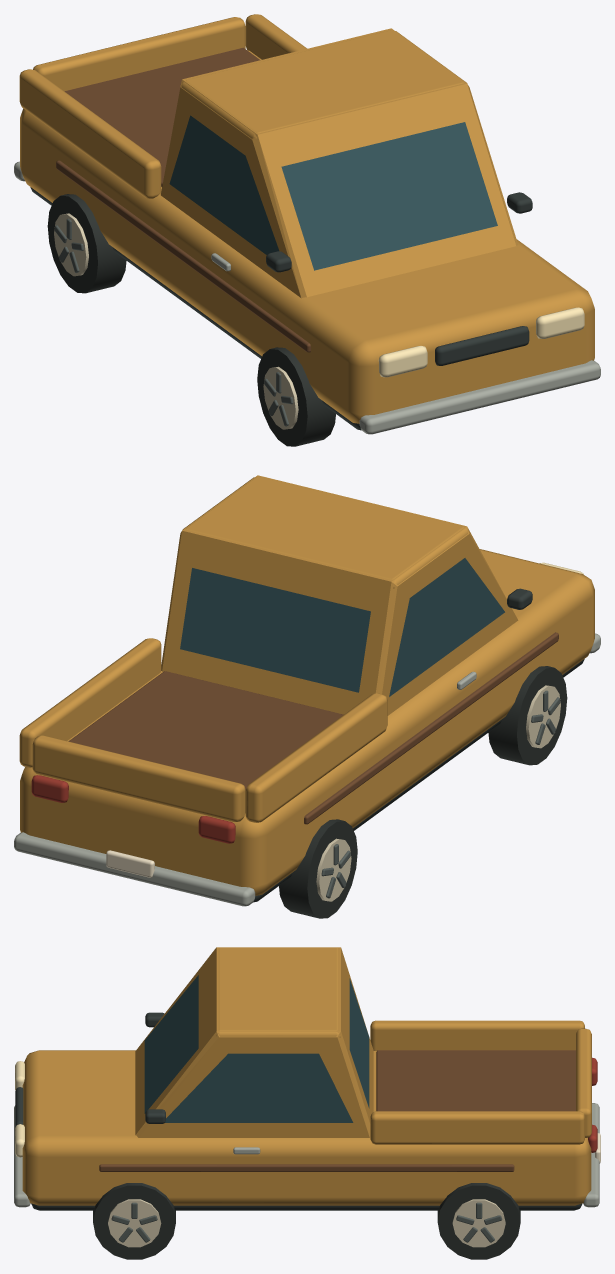
File: vehicle-pickup.glb
The picture shows the model from 3 angles, top to bottom: view 1: azimuth 30°, elevation 25°; view 2: azimuth 150°, elevation 25°; view 3: azimuth 270°, elevation 25°; orthographic projection. The views are drawn at different scales.
Visible parts, largest first — view 1: Harbor vehicle pickup, wheel--1--1, wheel--1-1; view 2: Harbor vehicle pickup, wheel--1--1, wheel--1-1; view 3: Harbor vehicle pickup, wheel-1--1, wheel-1-1.
Boxes of the visible parts, x1,y1,x2,y2 form: Harbor vehicle pickup: (14,14,600,434); wheel--1--1: (47,194,126,293); wheel--1-1: (257,347,335,446); Harbor vehicle pickup: (14,475,600,906); wheel--1--1: (279,819,357,918); wheel--1-1: (488,666,567,765); Harbor vehicle pickup: (14,947,600,1210); wheel-1--1: (437,1183,520,1259); wheel-1-1: (93,1183,175,1259).
Size of the model in its own units: 2.1 by 1.98 by 4.81.
